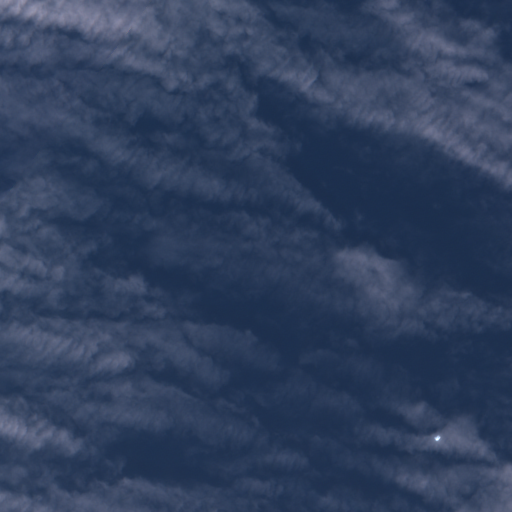Iceberg: (435, 436, 440, 440)
